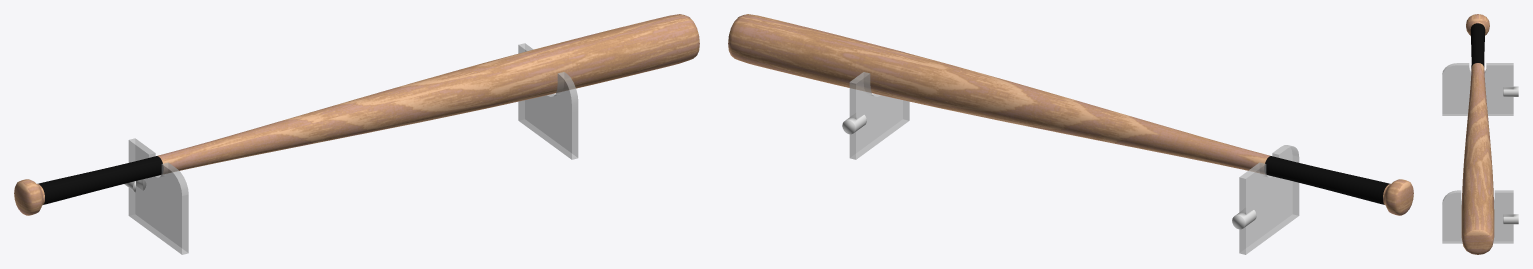
The model's file is 1x.1x.1 bita.glb.
3 views of the same model, side by side, from view 1: azimuth 30°, elevation 25°; view 2: azimuth 150°, elevation 25°; view 3: azimuth 270°, elevation 25° (orthographic). The views are drawn at different scales.
Visible parts, largest first — view 1: BaseBall_Bat, Mounts; view 2: BaseBall_Bat, Mounts, Cylinder; view 3: BaseBall_Bat, Mounts, Cylinder.
Part boxes in pixels (x1,y1,x2,y2): BaseBall_Bat: (14,14,699,215); Mounts: (128,43,578,254); BaseBall_Bat: (728,14,1413,215); Mounts: (849,51,1299,254); Cylinder: (842,113,1256,229); BaseBall_Bat: (1461,14,1494,254); Mounts: (1442,63,1513,243); Cylinder: (1503,86,1518,224).
Size of the model in its own units: 1.02 by 0.1321 by 0.15.
4 materials, 1 textured.
